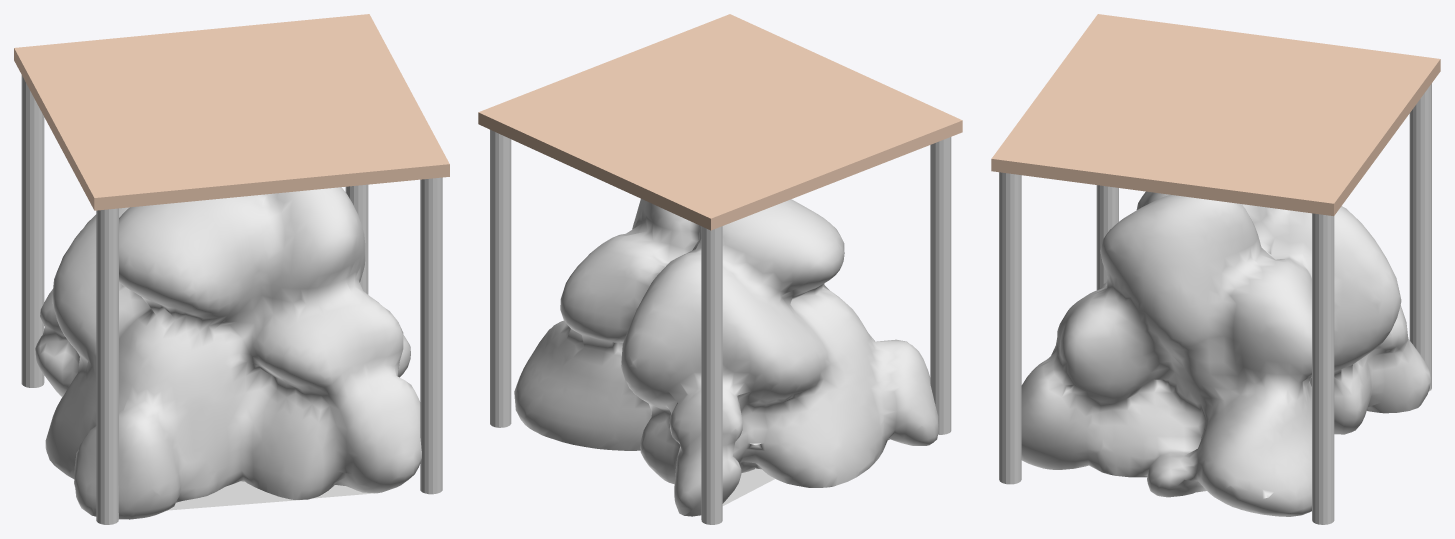
File: stonecoveringplatform.fbx
The picture shows the model from 3 angles, left to right: view 1: azimuth 30°, elevation 25°; view 2: azimuth 150°, elevation 25°; view 3: azimuth 270°, elevation 25°; orthographic projection. The views are drawn at different scales.
Parts seen in each view (by area): view 1: Cube__1_.001; view 2: Cube__1_.001; view 3: Cube__1_.001.
Part boxes in pixels (x1,y1,x2,y2): Cube__1_.001: [14, 14, 449, 524]; Cube__1_.001: [478, 14, 962, 524]; Cube__1_.001: [991, 14, 1440, 524].
Size of the model in its own units: 1001 by 805 by 1001.
